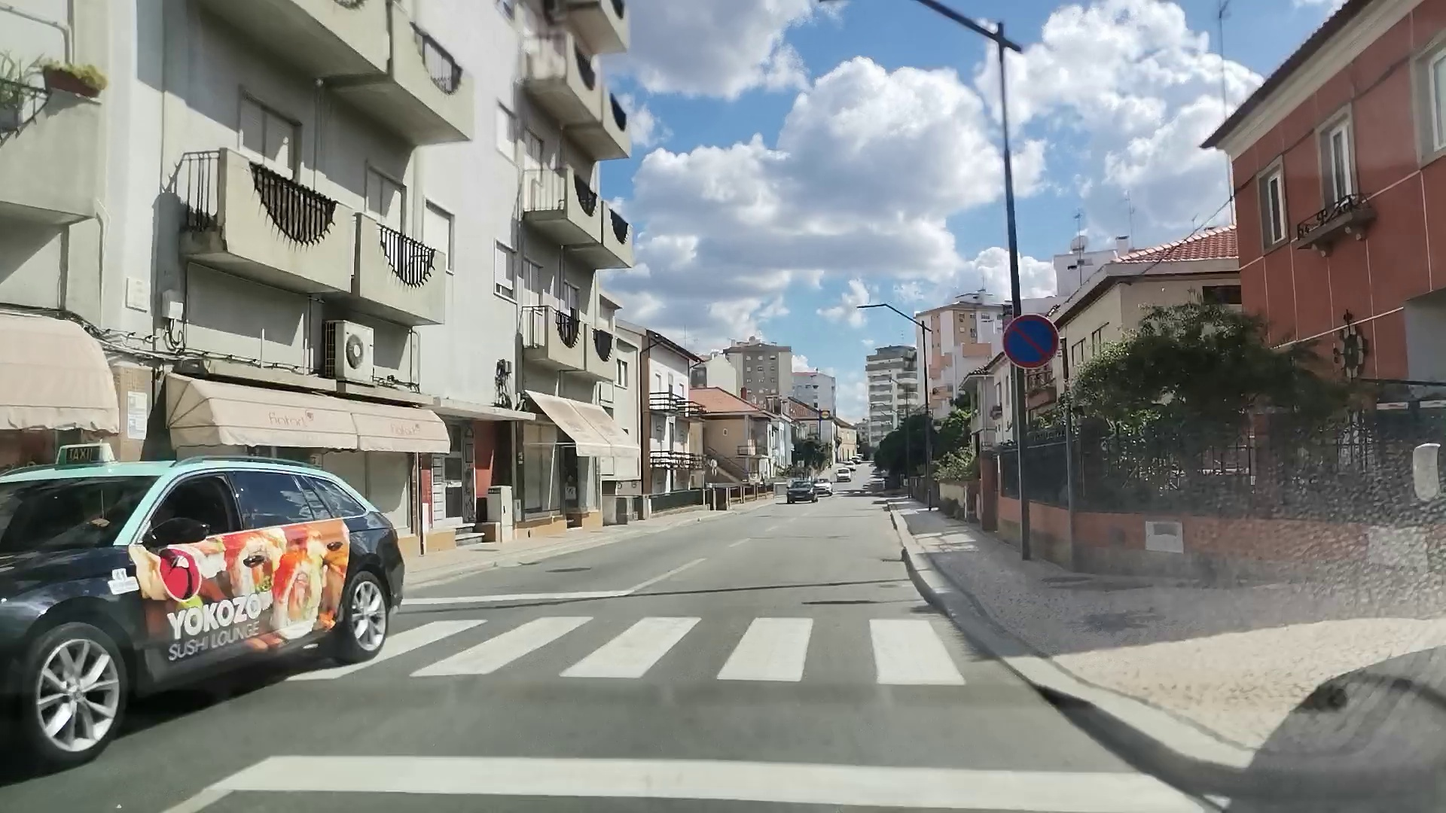Stairs: (299, 602, 961, 693)
